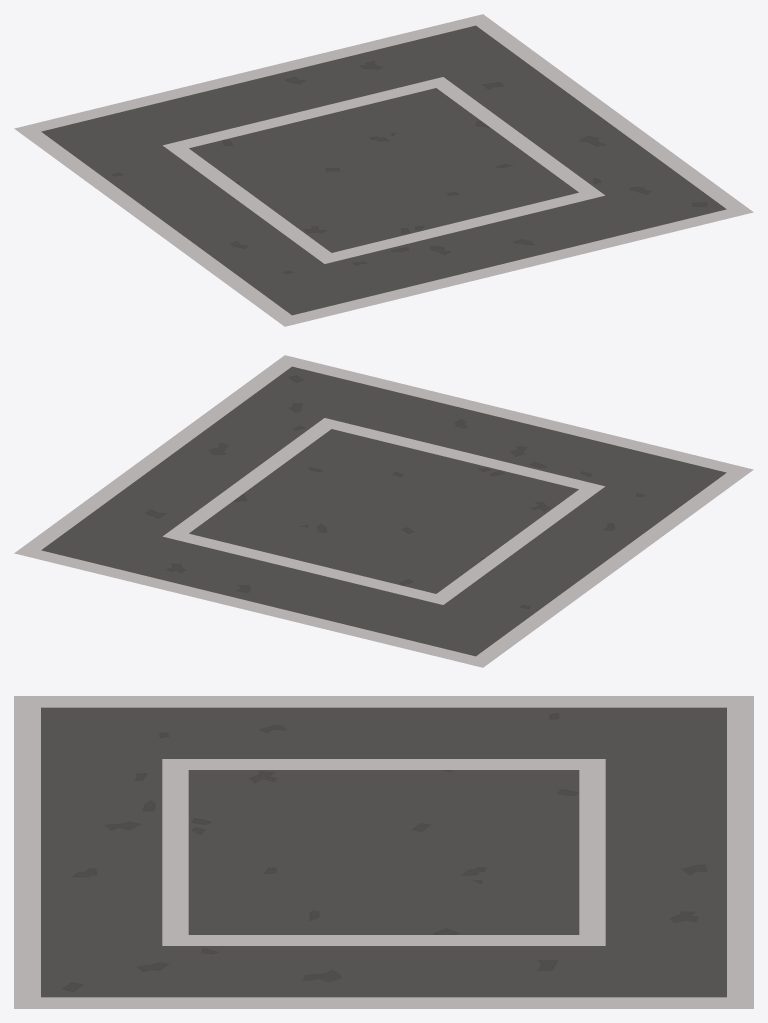
File: SM_Env_Ground_Lines_Square_01.fbx
3 renders of one model, top to bottom at view 1: azimuth 30°, elevation 25°; view 2: azimuth 150°, elevation 25°; view 3: azimuth 270°, elevation 25°, orthographic. The views are drawn at different scales.
Visible parts, largest first — view 1: SM_Env_Ground_Lines_Square_01; view 2: SM_Env_Ground_Lines_Square_01; view 3: SM_Env_Ground_Lines_Square_01.
Boxes of the visible parts, x1=… form: SM_Env_Ground_Lines_Square_01: x1=14, y1=14, x2=753, y2=326; SM_Env_Ground_Lines_Square_01: x1=14, y1=355, x2=753, y2=667; SM_Env_Ground_Lines_Square_01: x1=14, y1=696, x2=753, y2=1008.
Size of the model in its own units: 1000 by 1.82e-12 by 1000.
